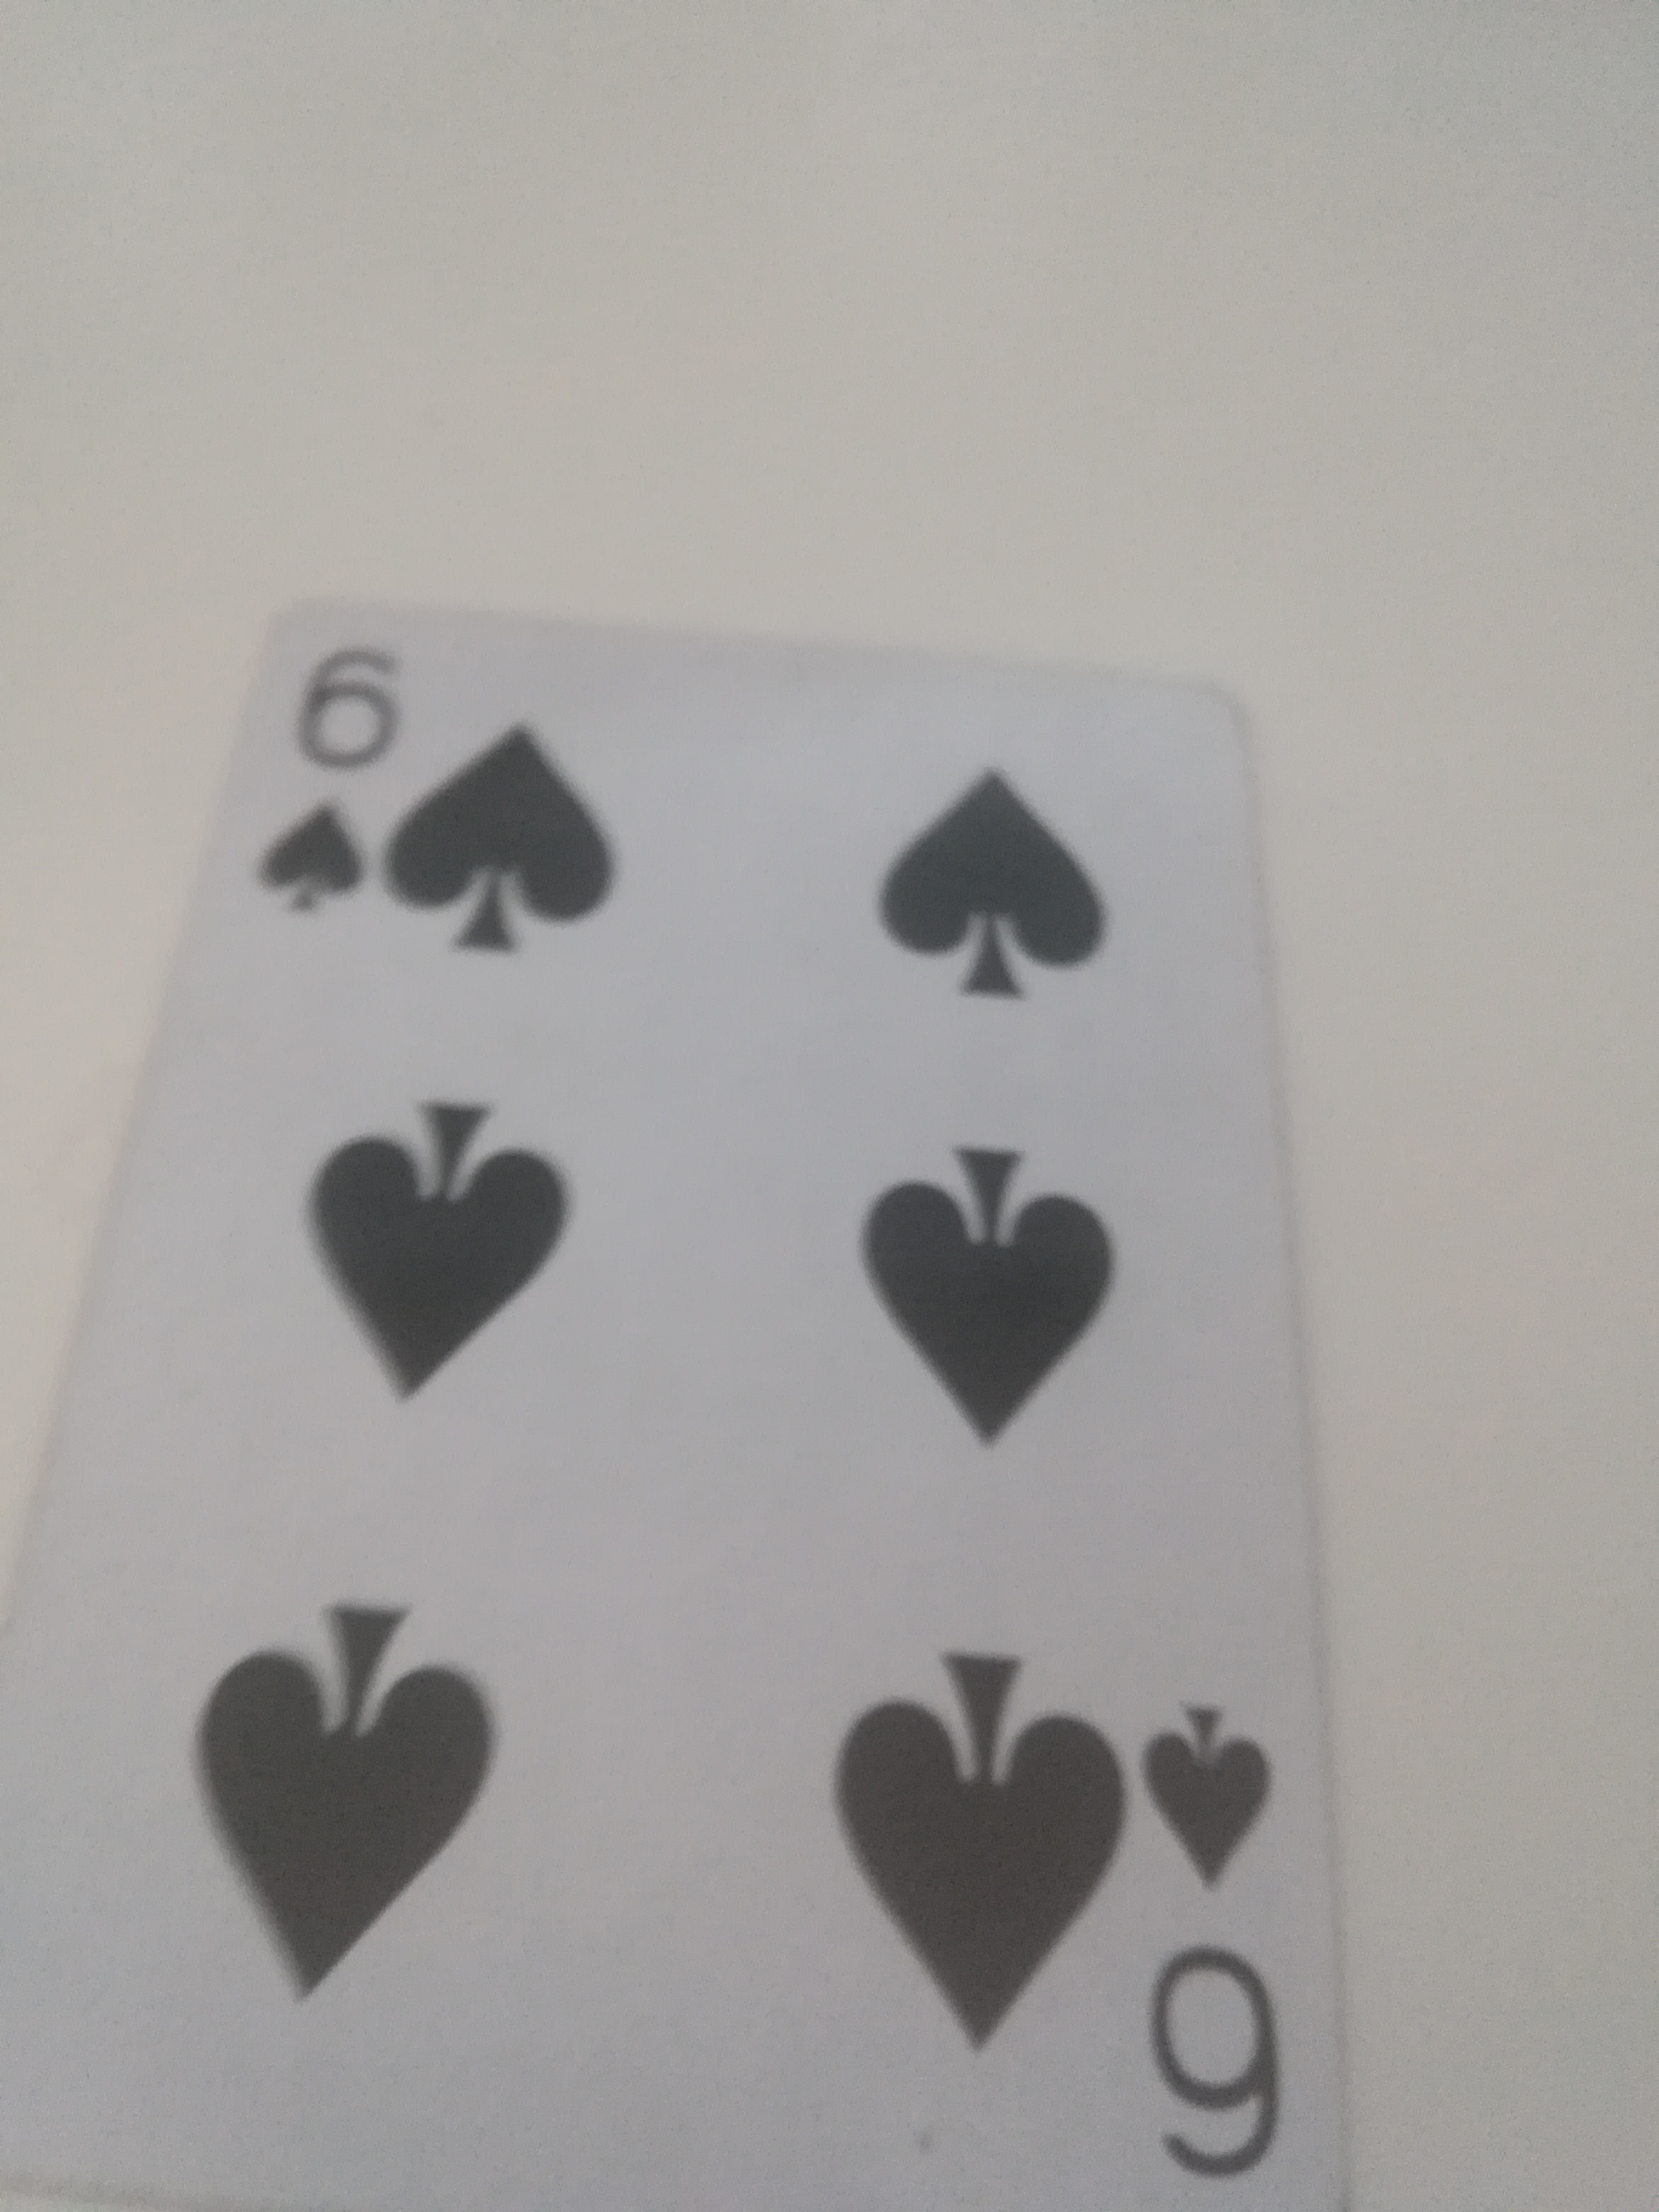6S: (0, 594, 1356, 2209)
